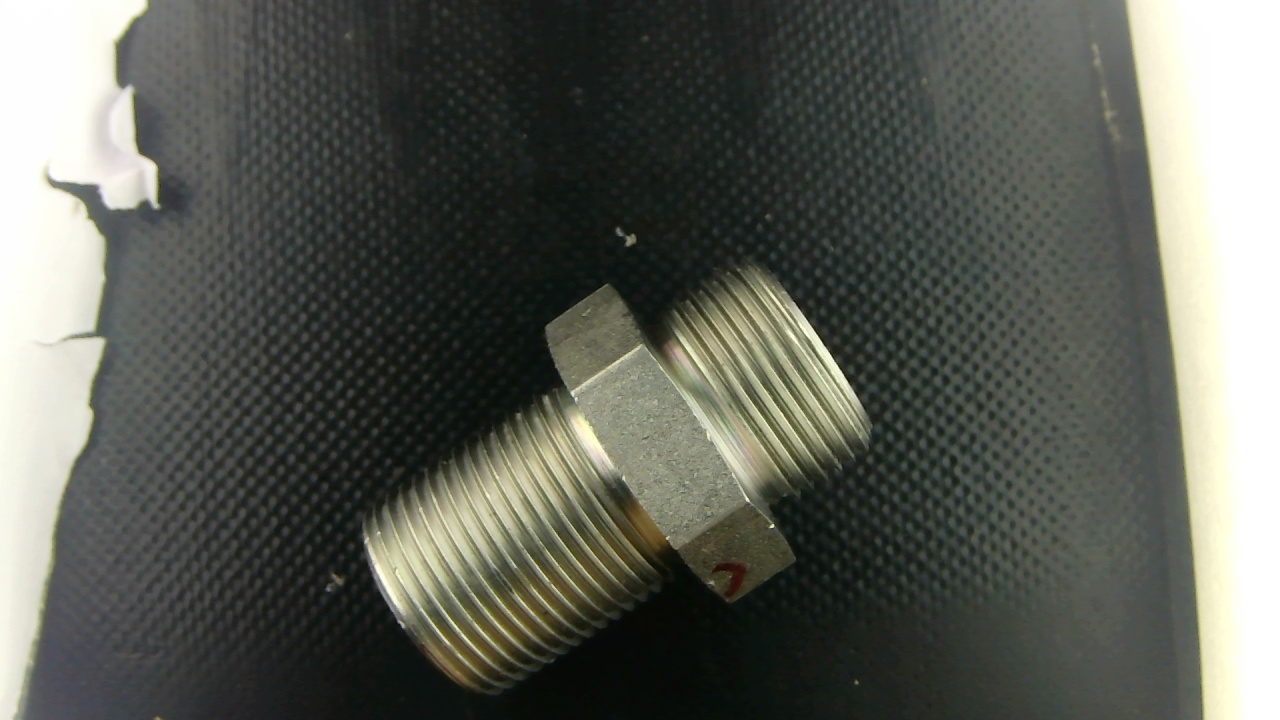SurfaceDent_Adaptor: (704, 579, 715, 589), (768, 521, 775, 529)
